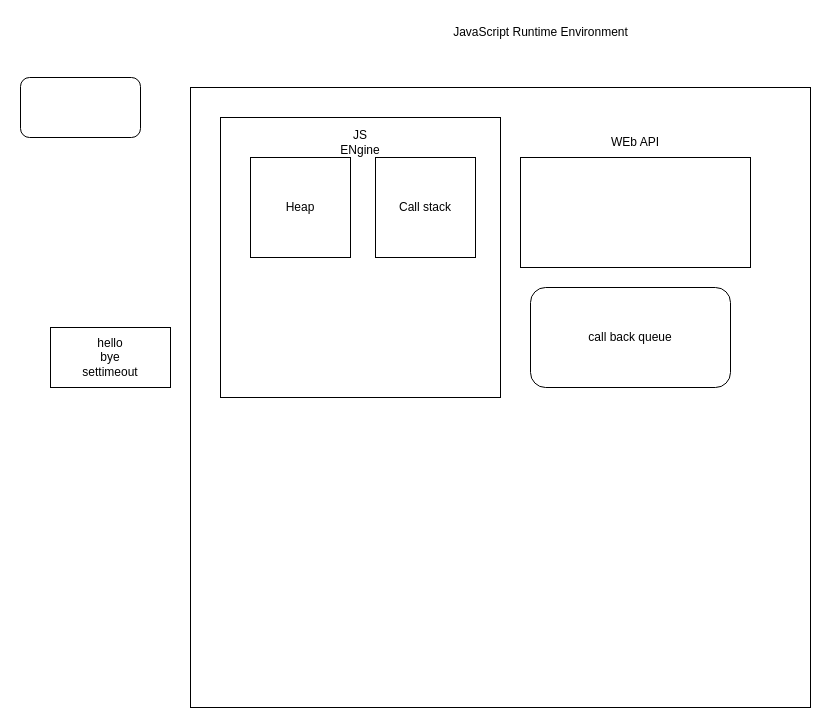
Some shapes in this 828 by 725 pixel diagram are drawn without their labels. Each missing label, with the box of its shape:
console.log('hello') setTimeout('settimeout') console.log('bye'): (20, 76, 140, 138)
DOM, setTimeout, FetchAPI: (520, 156, 750, 268)
